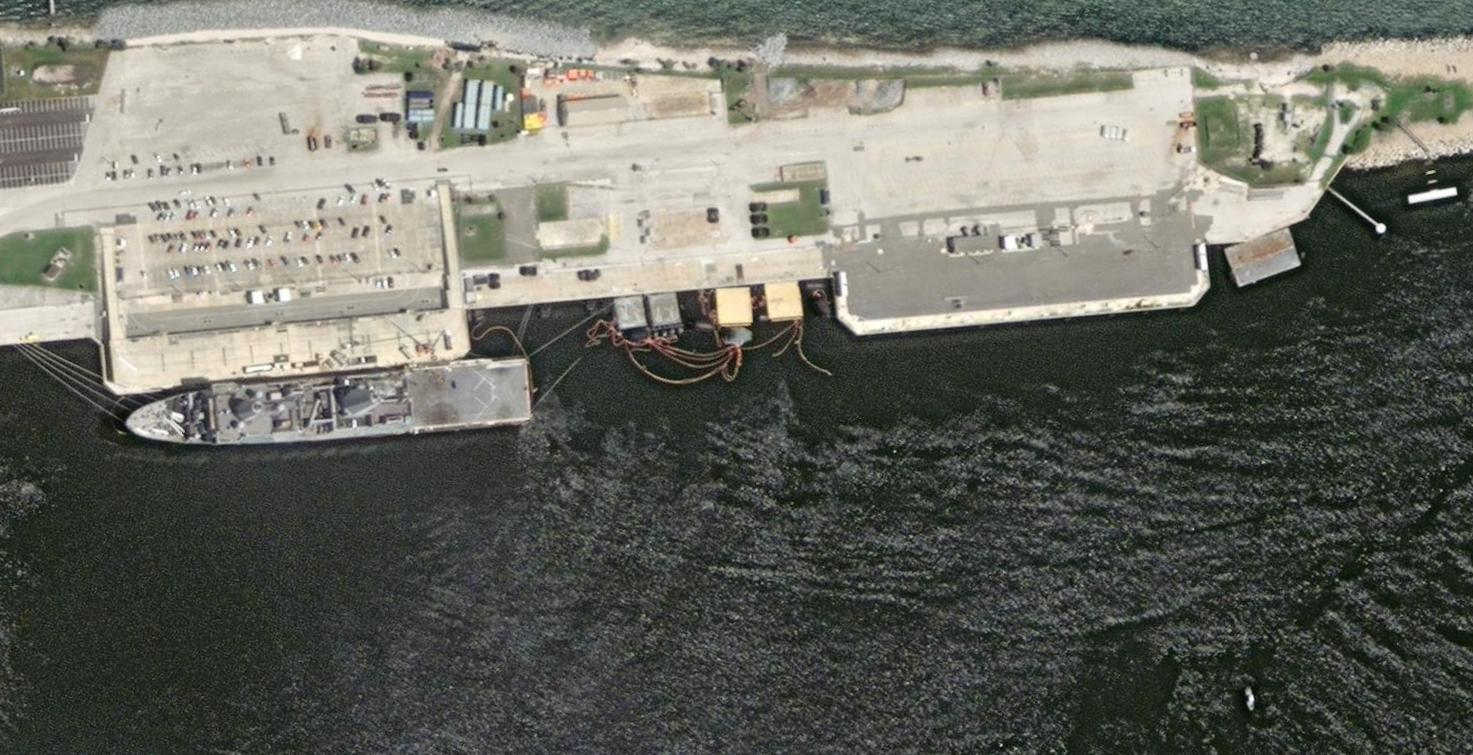amphiby: (113, 348, 542, 459)
